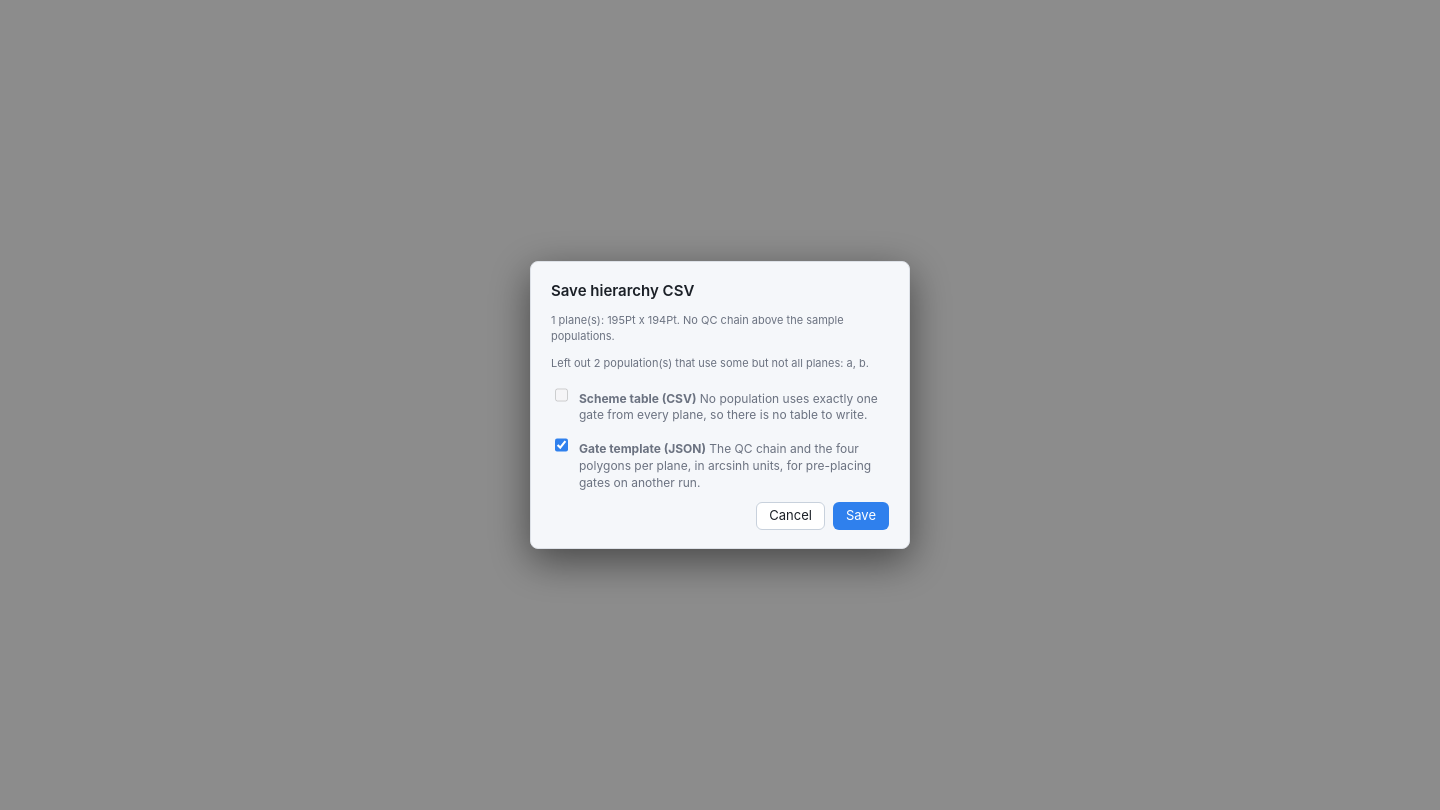
BarcodeSaveModal › disables the table when no sample population exists, and Save when nothing is chosen
Expected: the 1st checkbox is disabled, [555,387,568,403]
Expected: the 1st checkbox is not checked, [555,387,568,403]
Step 1. Click the 2nd checkbox → click(562, 445), box [555,437,568,453]
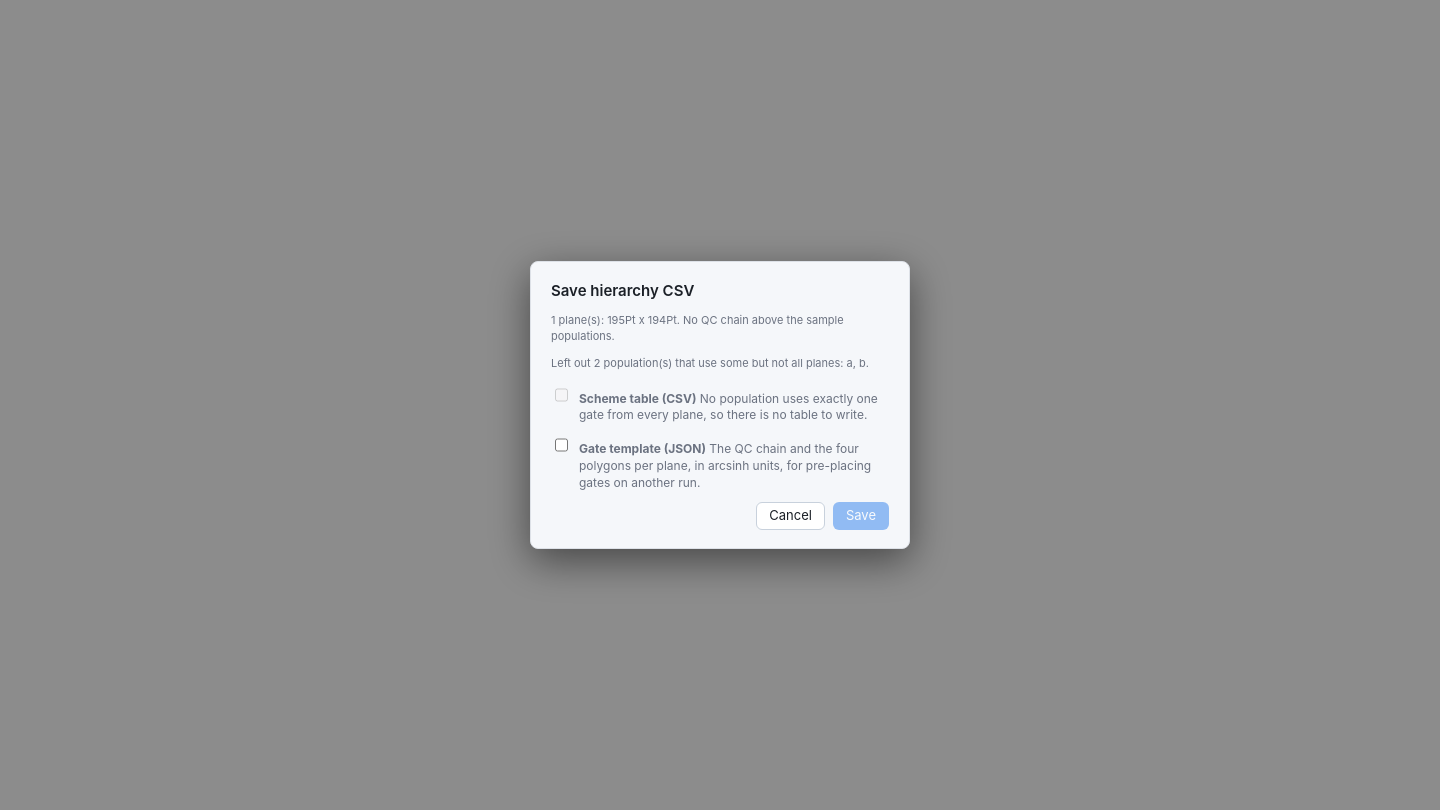
Now the button "Save" is disabled, box [833,502,889,530]
